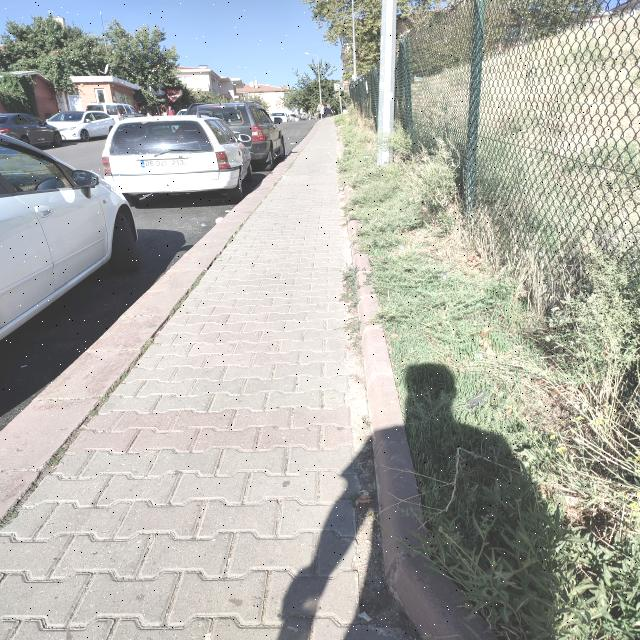sidewalk: (2, 120, 410, 640)
